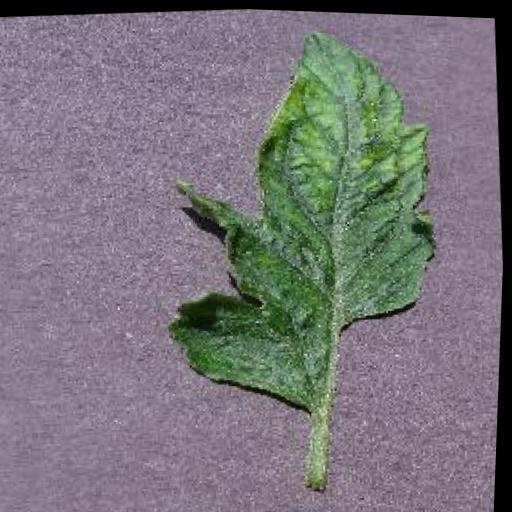Mosaic Virus: (144, 13, 454, 425)
